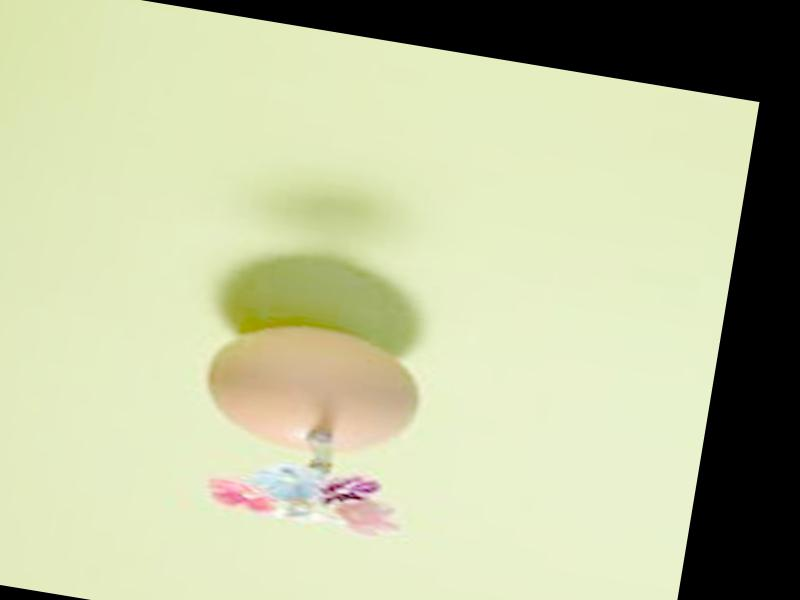Eggs: (200, 311, 427, 465)
